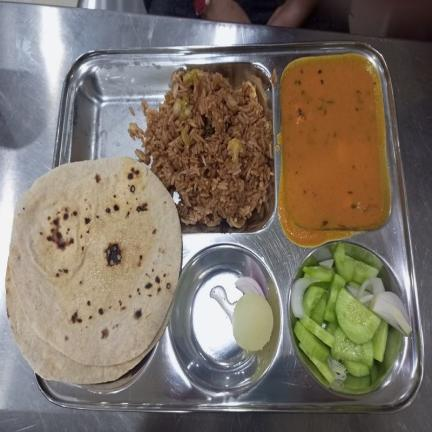Chhaina: (231, 290, 273, 352)
Fried Rice: (129, 67, 271, 229)
Paneer: (282, 59, 385, 230)
Plate: (34, 41, 425, 415)
Roti: (4, 156, 181, 384)
Salad: (293, 241, 413, 383)
